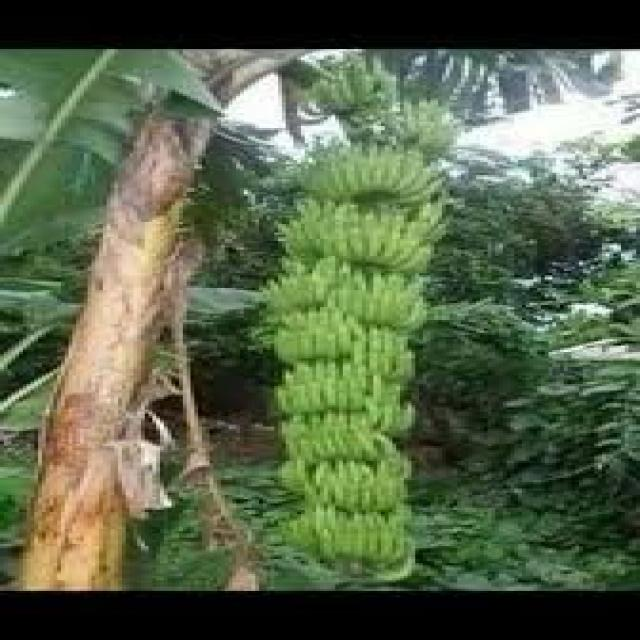banana: (286, 70, 444, 552)
